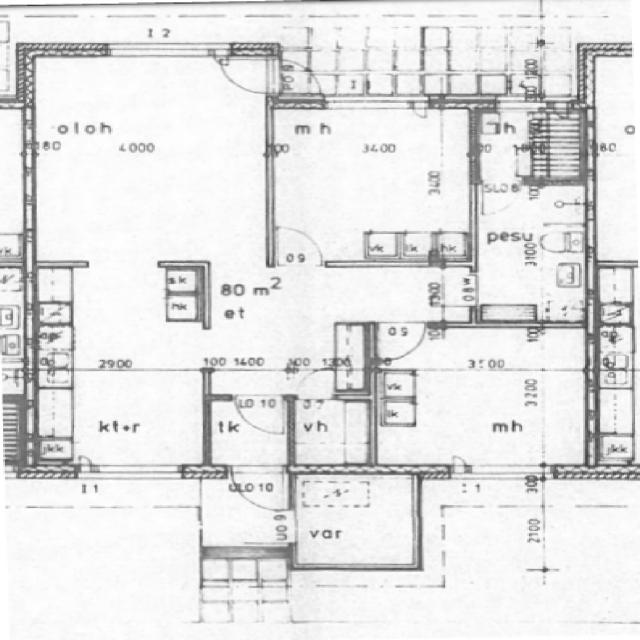door: (232, 466, 284, 514), (236, 395, 284, 437), (267, 60, 326, 94), (222, 60, 281, 94), (277, 228, 322, 268), (382, 322, 426, 361), (245, 512, 296, 544), (429, 275, 477, 307), (484, 179, 523, 214), (298, 368, 334, 400)
